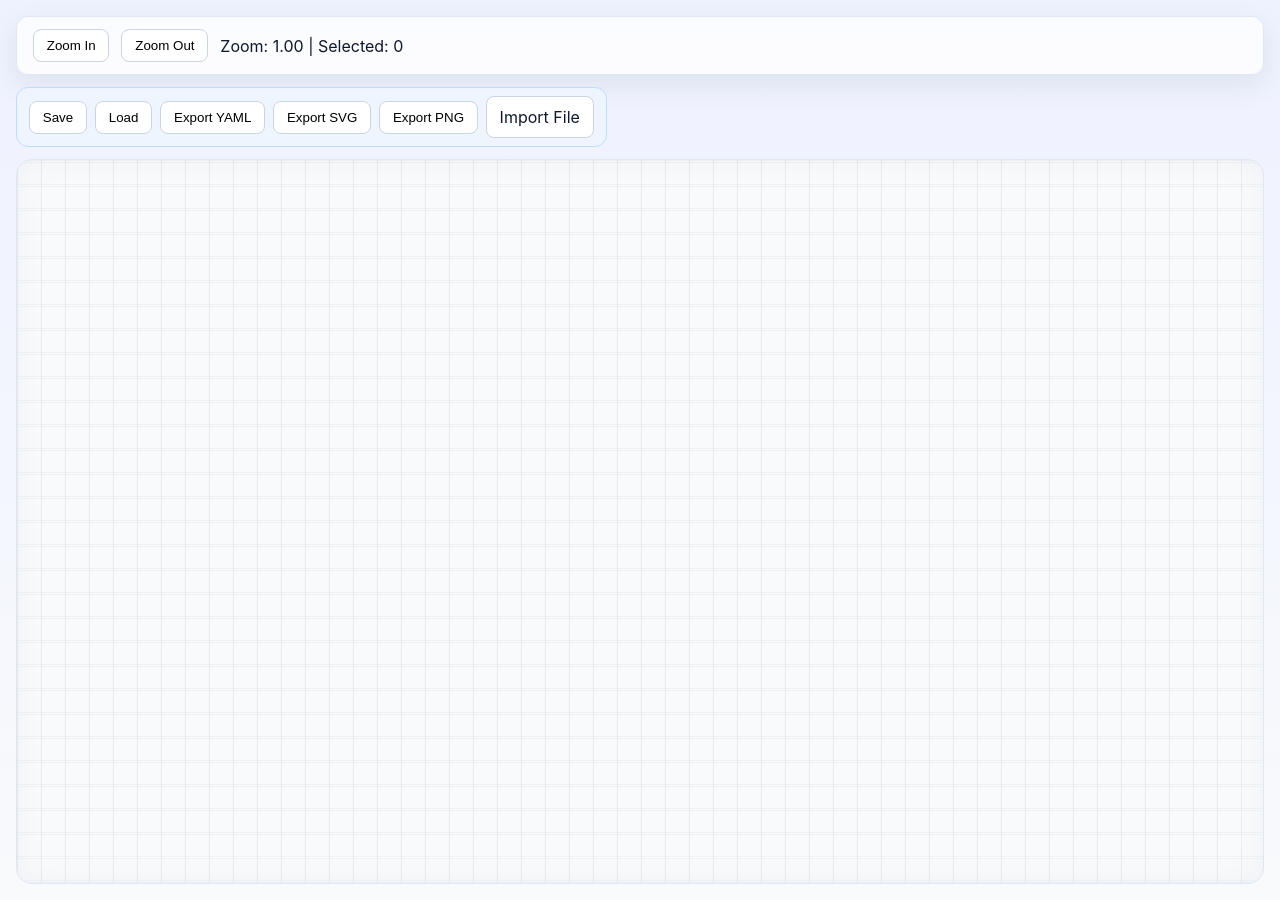
Scenario: EditorSurface › zooms with toolbar buttons
Expected: the text "Zoom: 1.00 | Selected: 0" is shown, [220,34,403,58]
Click the button "Zoom In" at {"x": 71, "y": 46}, box [33,29,110,62]
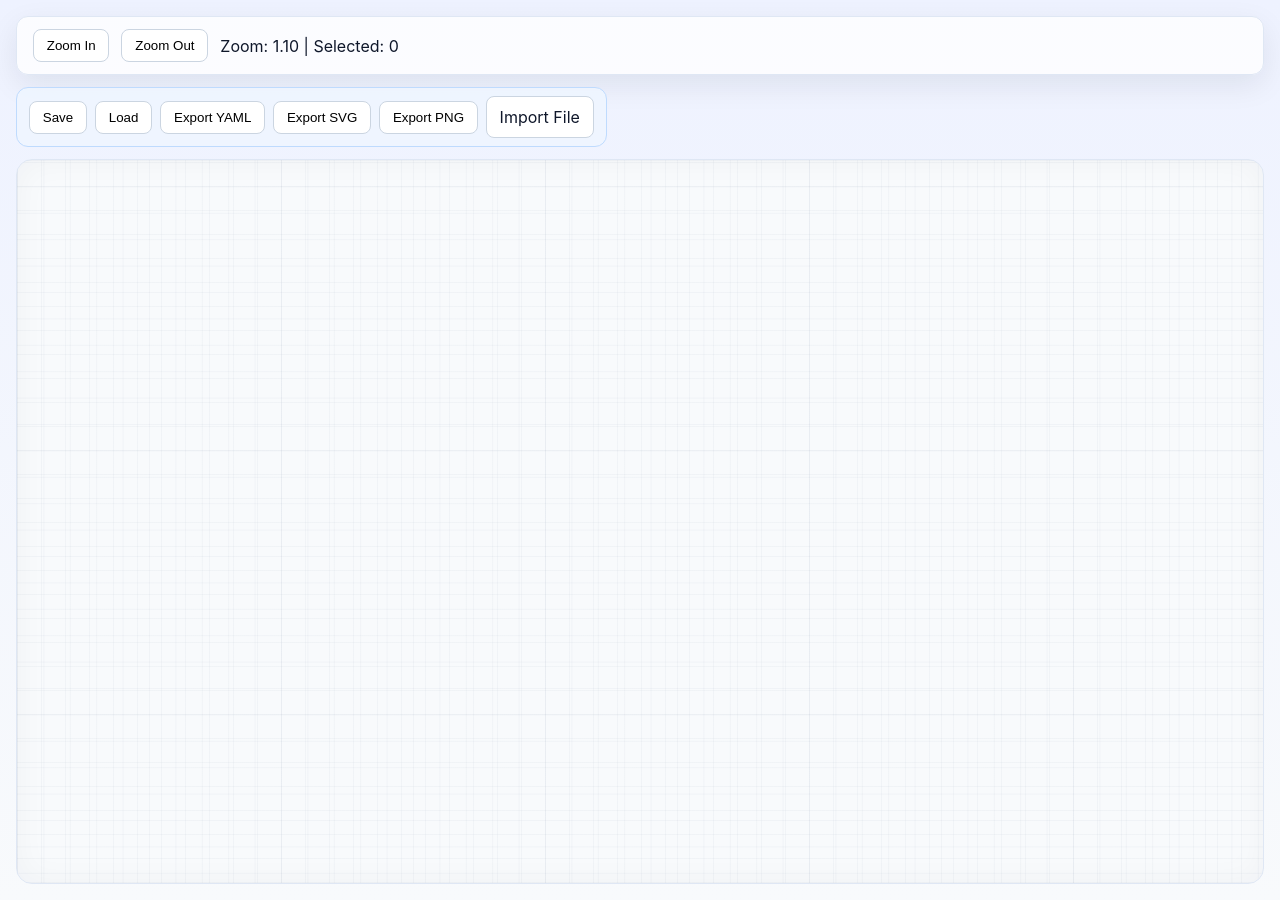
Expected: the text "Zoom: 1.10 | Selected: 0" is shown, [220,34,399,58]
